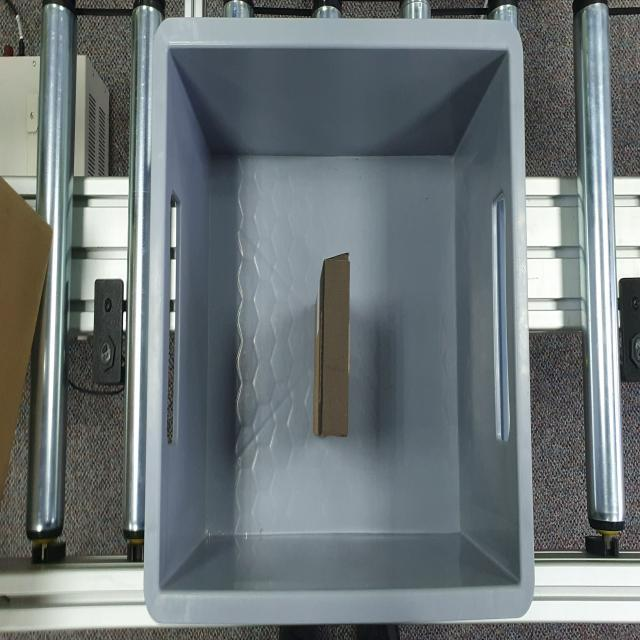box: (320, 252, 352, 442)
